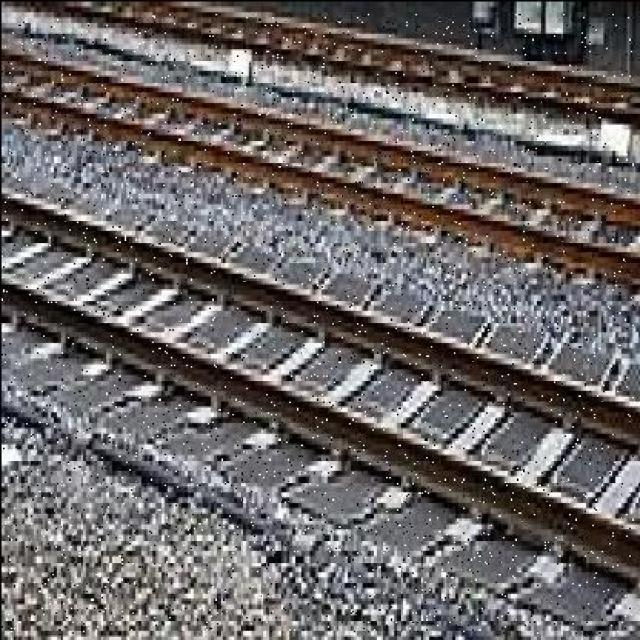rail: (1, 13, 632, 632)
